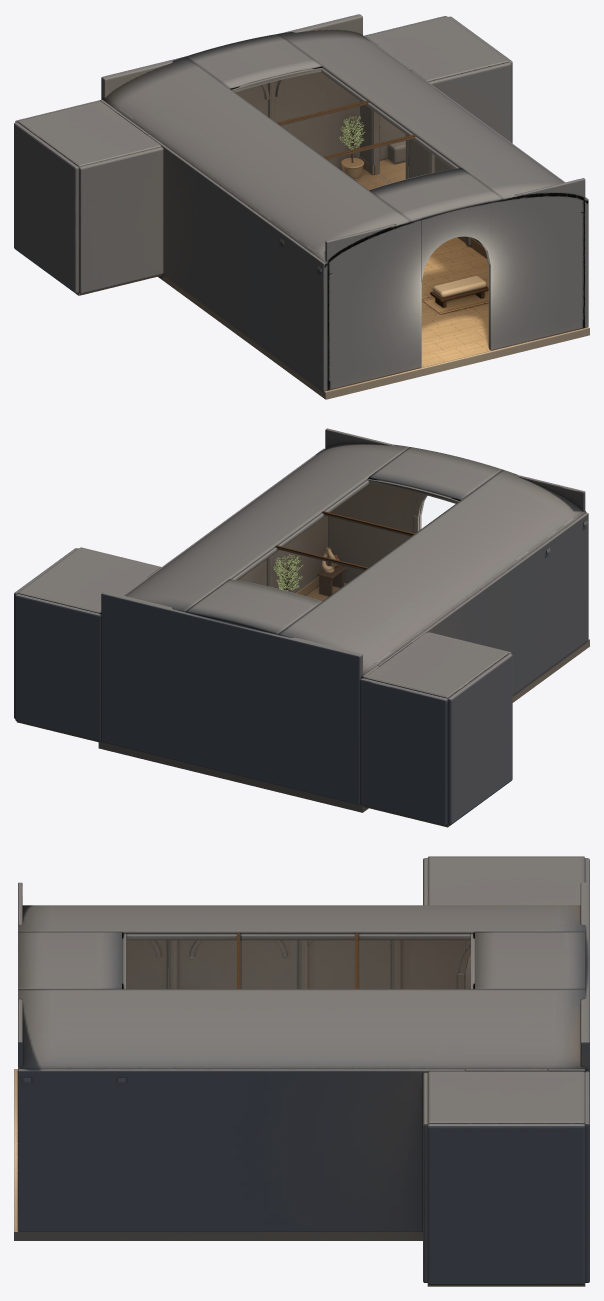
File: hall-clean.glb
The picture shows the model from 3 angles, top to bottom: view 1: azimuth 30°, elevation 25°; view 2: azimuth 150°, elevation 25°; view 3: azimuth 270°, elevation 25°; orthographic projection. The views are drawn at different scales.
Parts seen in each view (by area): view 1: LIGHTMAP hall plaster, BAKED hall floor, BAKED hall furniture; view 2: LIGHTMAP hall plaster, BAKED hall floor, BAKED hall furniture; view 3: LIGHTMAP hall plaster, BAKED hall floor.
Boxes of the visible parts, box(x1,y1,x2,y2) form: LIGHTMAP hall plaster: box(14, 14, 588, 391); BAKED hall floor: box(75, 156, 589, 399); BAKED hall furniture: box(230, 66, 488, 314); LIGHTMAP hall plaster: box(14, 428, 588, 825); BAKED hall floor: box(16, 576, 589, 827); BAKED hall furniture: box(275, 477, 460, 596); LIGHTMAP hall plaster: box(18, 856, 589, 1284); BAKED hall floor: box(14, 1069, 585, 1286).
Bounding box in the file's own units: 20.3 × 7.05 × 18.28.
7 materials, 3 textured.
